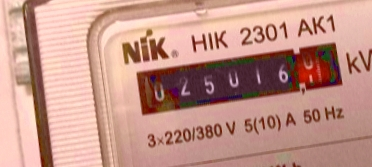0: (227, 64, 244, 88), (152, 79, 168, 102), (301, 48, 316, 70)
1: (251, 60, 266, 86), (307, 71, 316, 83)
2: (177, 72, 194, 97)
5: (203, 72, 216, 94)
6: (276, 59, 292, 86)
screen: (126, 31, 355, 122)
